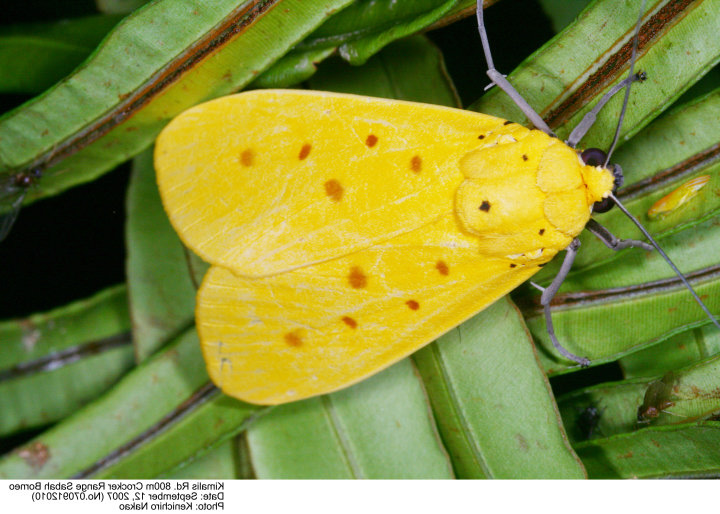Agape chloropyga: (148, 1, 708, 411)
moth: (150, 2, 710, 413)
